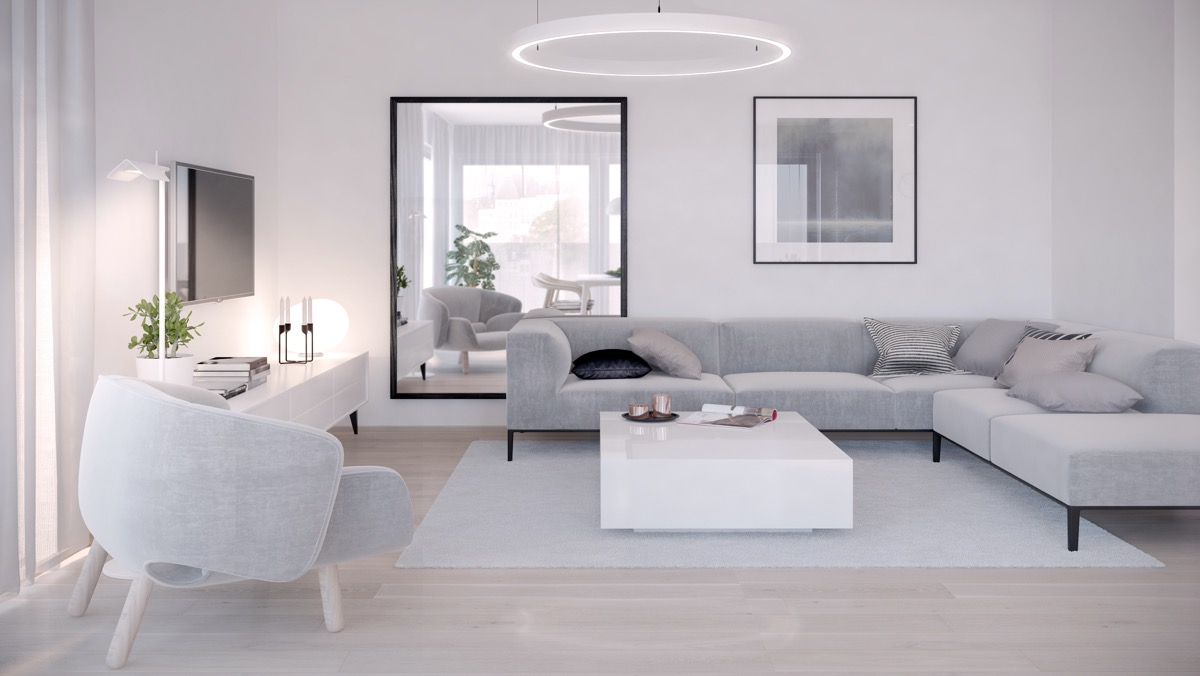TV: (171, 160, 258, 307)
TV stand: (201, 340, 372, 440)
chair: (72, 372, 417, 669)
floor lamp: (99, 150, 184, 382)
small plant: (120, 290, 204, 383)
sofa: (503, 309, 1197, 552)
table: (596, 406, 857, 539)
wall art: (748, 92, 920, 269)
